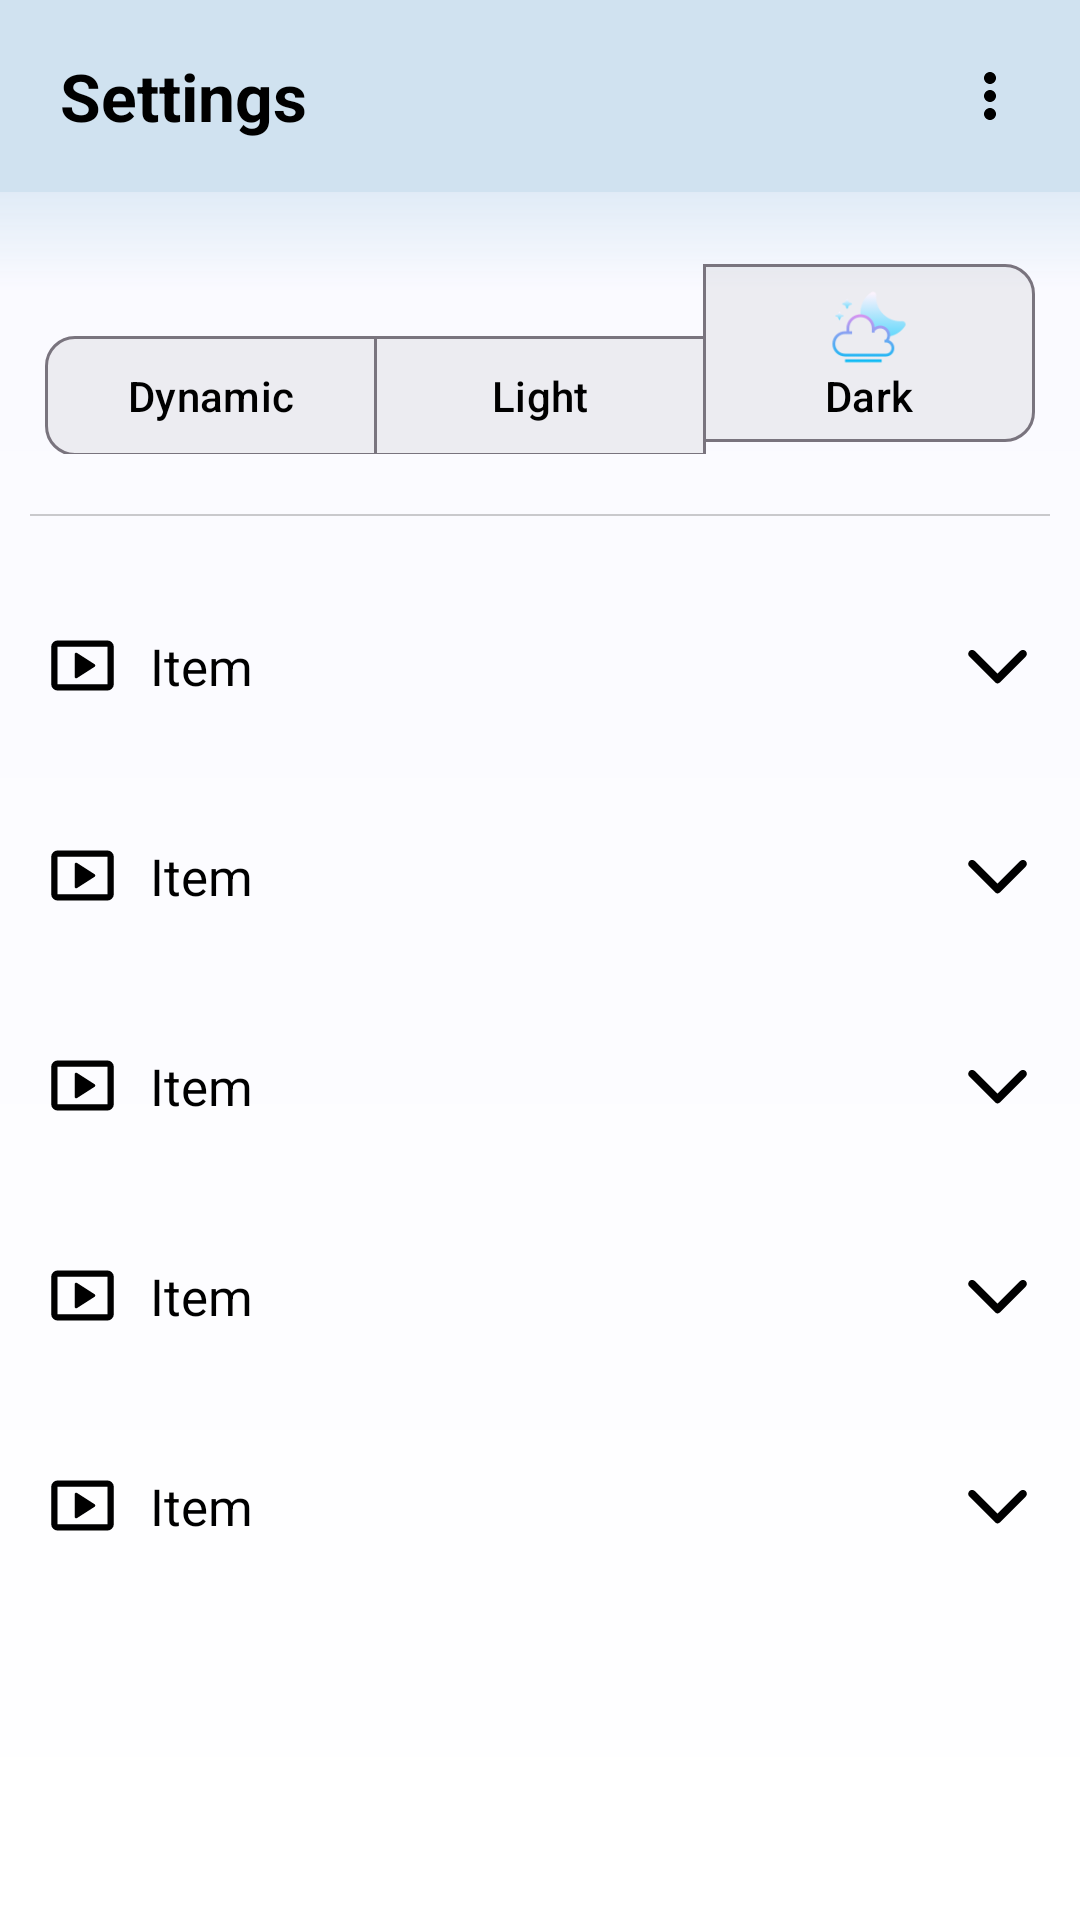

Icon bounding boxes for this 1080 x 1920 phone screenshot, format (x1, y1, x2, y2):
more vert: (984, 72, 996, 120)
smart display: (51, 640, 114, 691), (51, 850, 114, 901), (51, 1060, 114, 1111), (51, 1270, 114, 1321), (51, 1480, 114, 1531)
